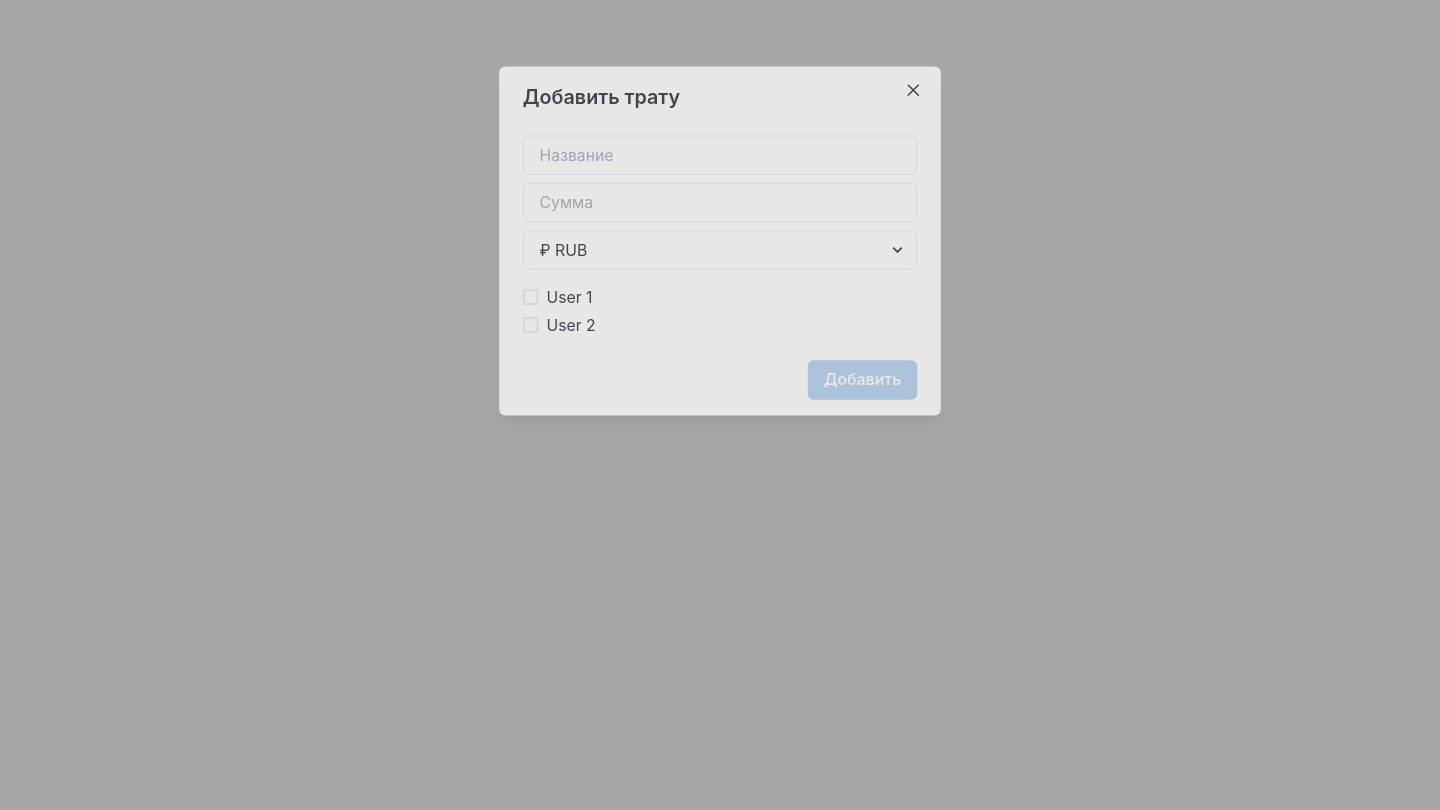
Test case: AddExpenseModal › обрабатывает offline режим и вызывает фоновую синхронизацию
Expected: the text "User 1" is shown, [546,285,593,309]
Type "Offline трата" into the field with placeholder "Название" at [720, 155], box [523,136,917,175]
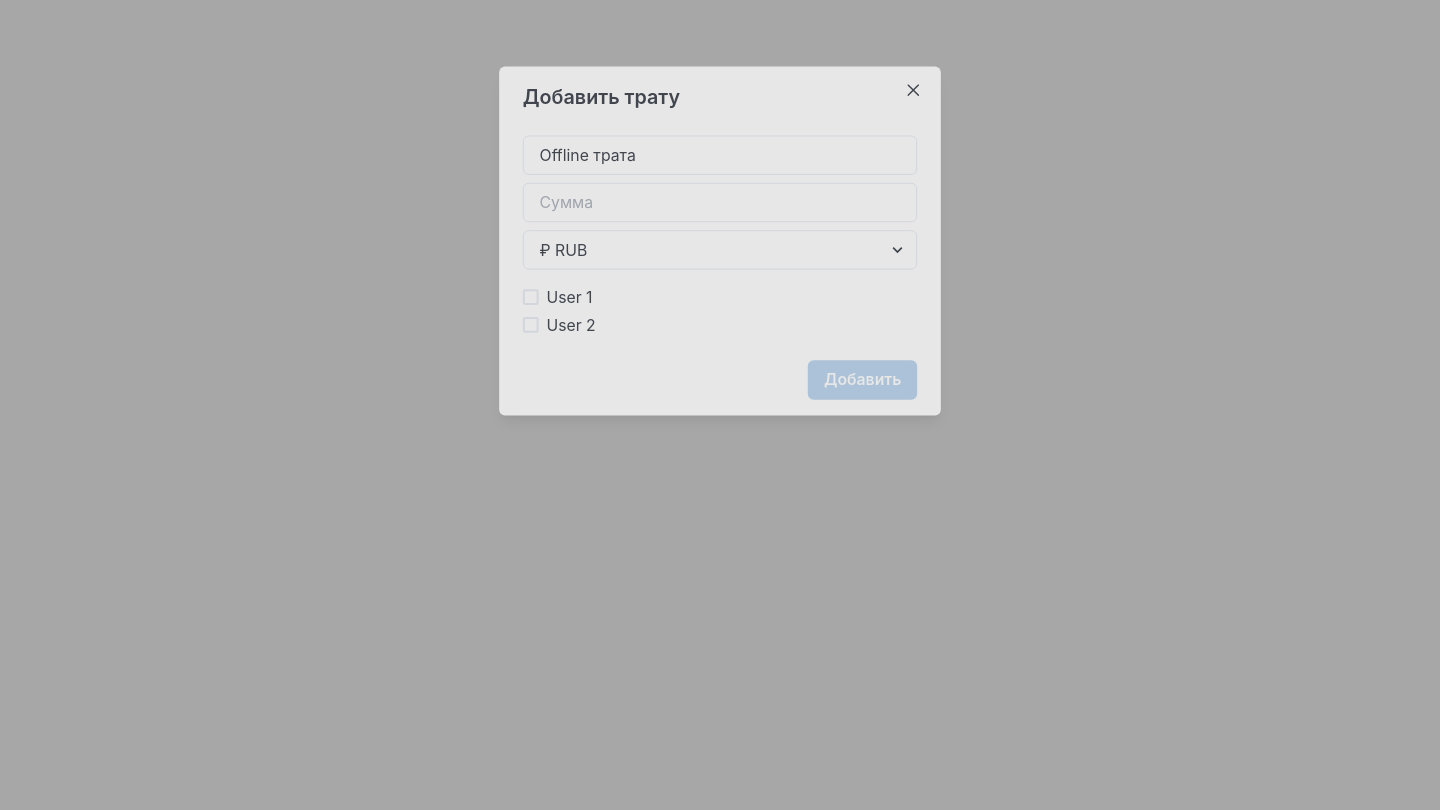
Type "777" into the number field with placeholder "Сумма" at [720, 202], box [523,183,917,222]
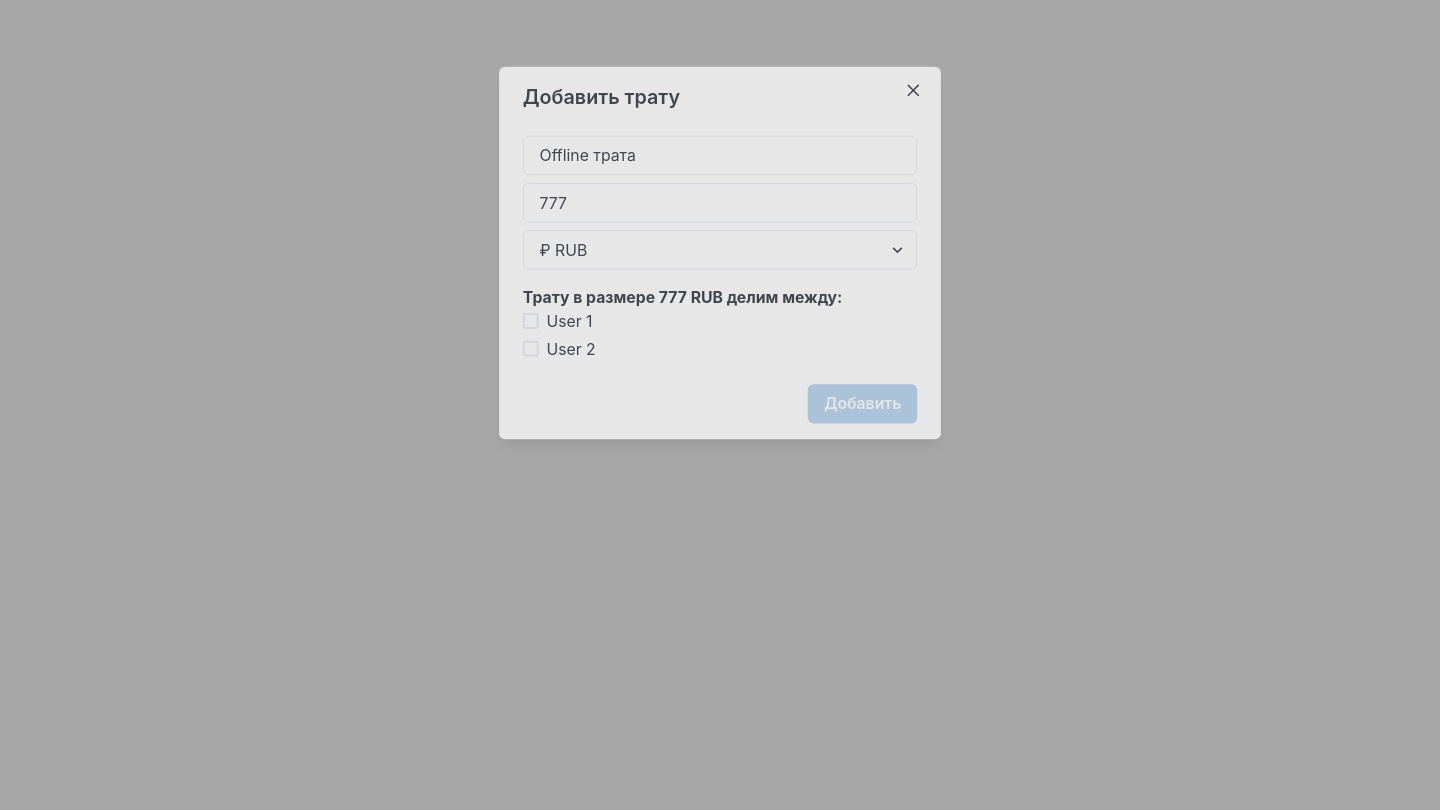
Click the text "User 1" at [570, 321], box [546,309,593,333]
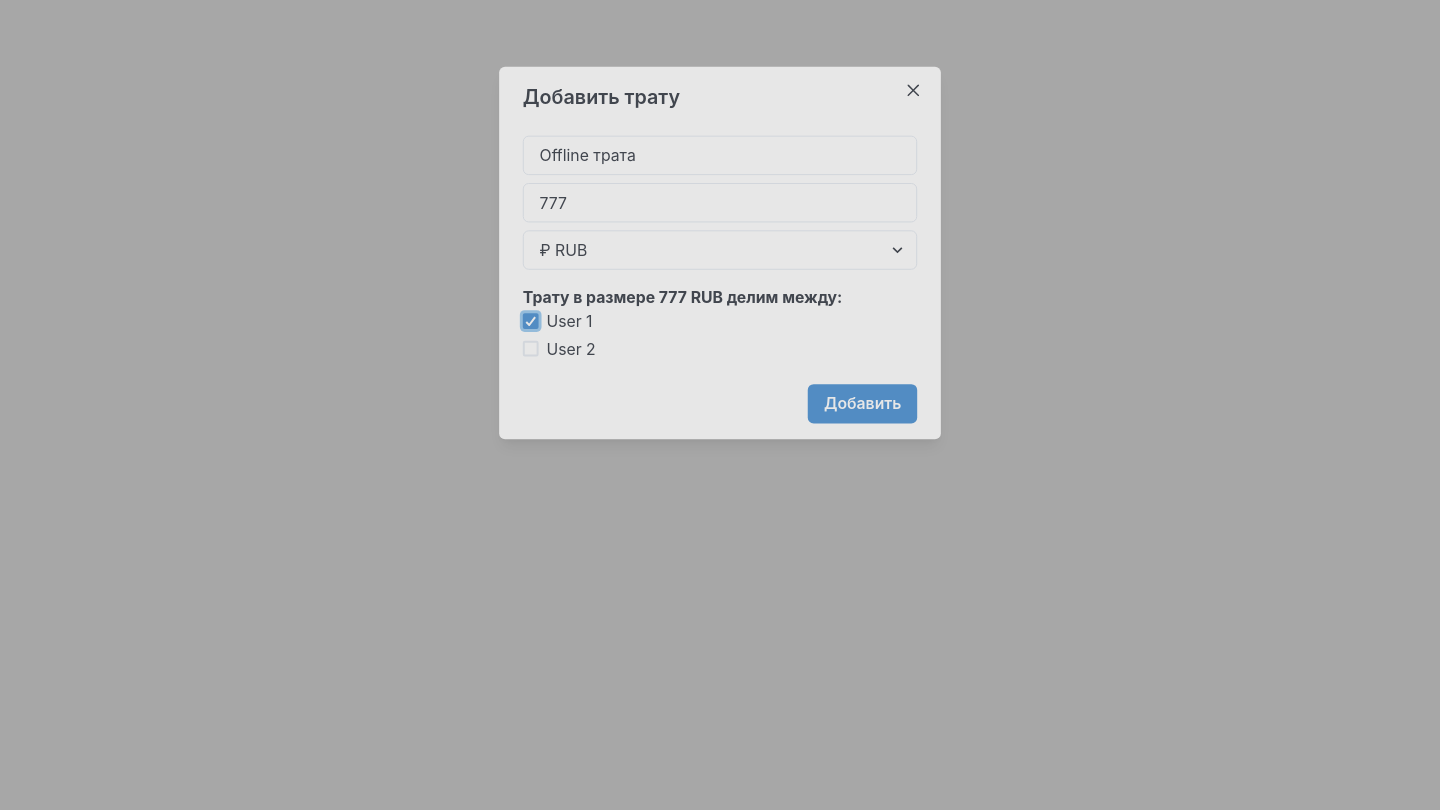
Click the button "Добавить" at [863, 404], box [808,384,917,424]
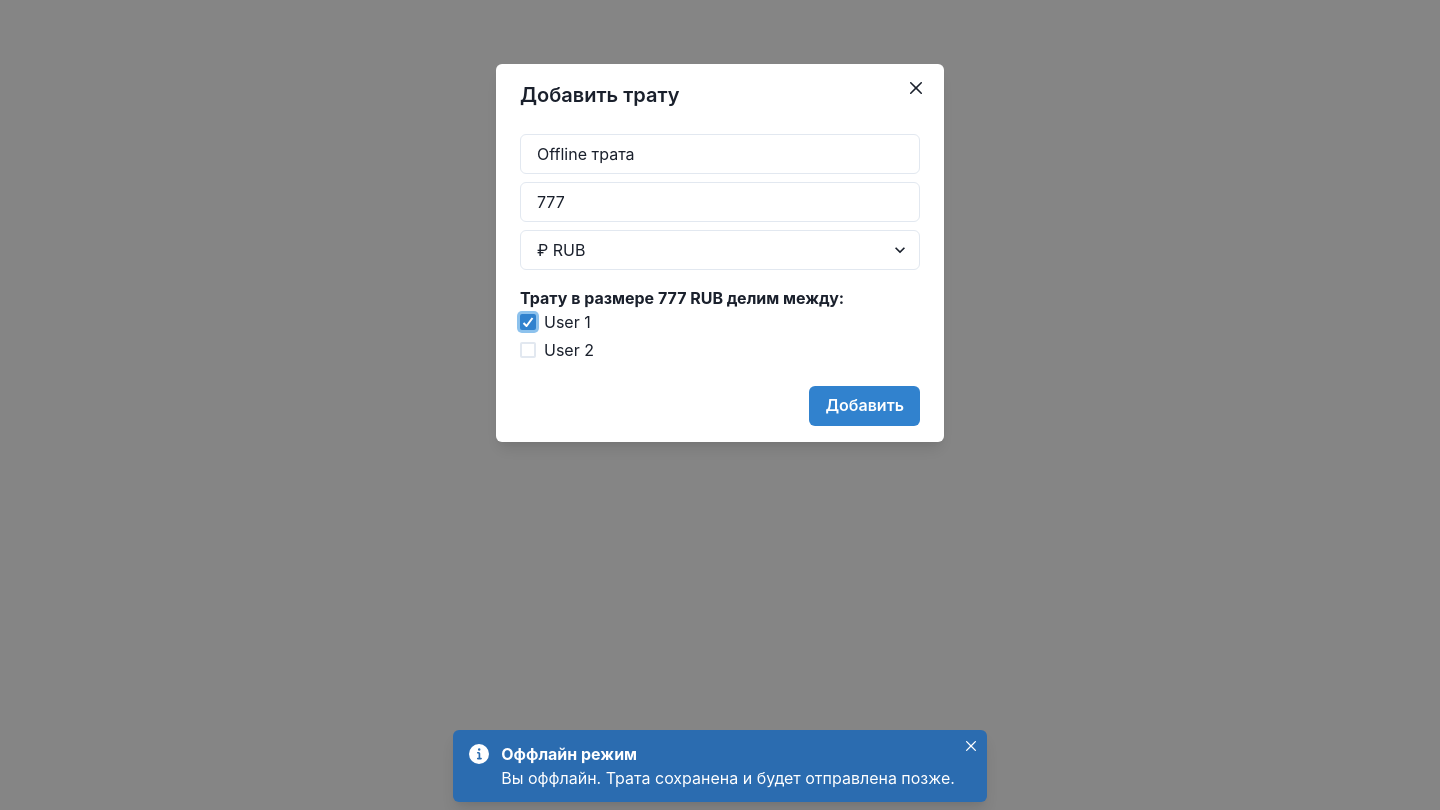
Now the text "Вы оффлайн. Трата сохранена и будет отправлена позже." is shown, box [501,766,955,790]
